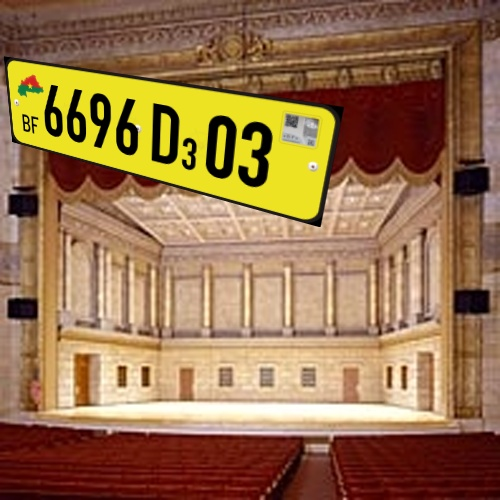plate: (4, 48, 351, 240)
